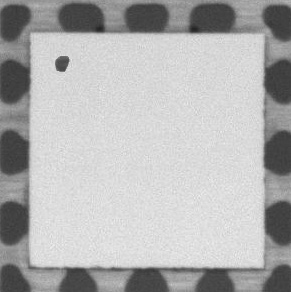DIE_INK: (50, 48, 74, 77)
